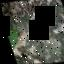Palmer Amaranth: (0, 2, 26, 64), (49, 16, 64, 61)
